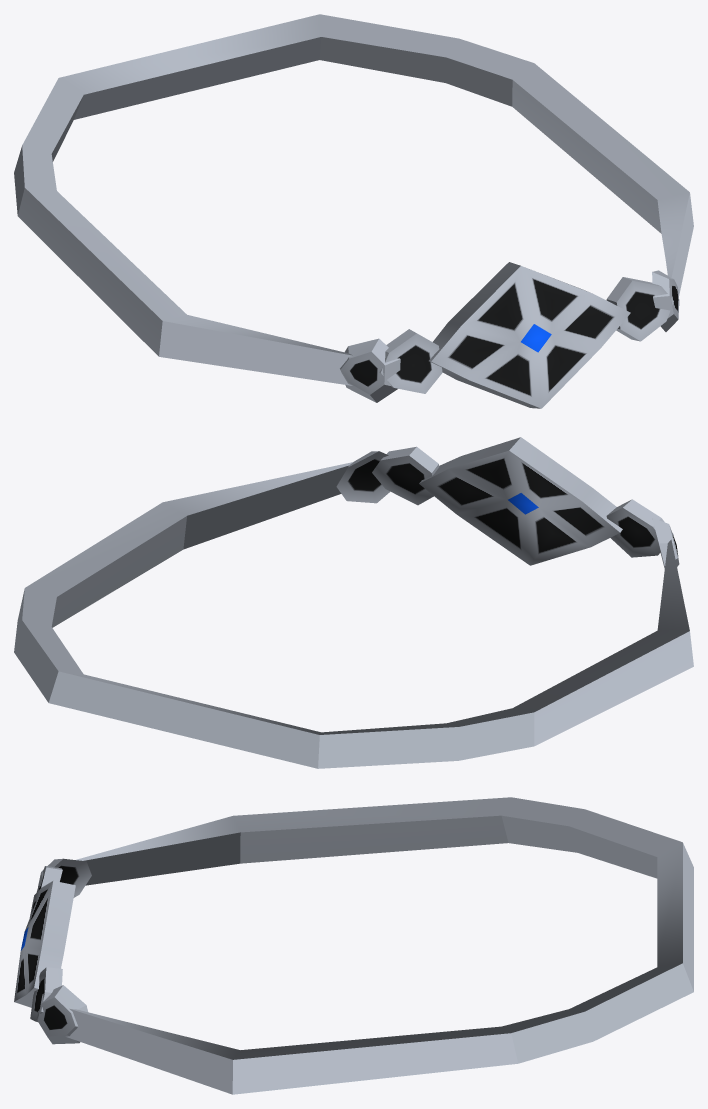
The model's file is pk-polysplit-heroes-circlet-f.glb.
3 renders of one model, top to bottom at view 1: azimuth 30°, elevation 25°; view 2: azimuth 150°, elevation 25°; view 3: azimuth 270°, elevation 25°, orthographic. The views are drawn at different scales.
Parts seen in each view (by area): view 1: Circlet_F; view 2: Circlet_F; view 3: Circlet_F.
Part boxes in pixels (x1,y1,x2,y2): Circlet_F: [14, 14, 693, 408]; Circlet_F: [14, 437, 693, 768]; Circlet_F: [14, 797, 693, 1094].
Bounding box in the file's own units: 0.2203 × 0.0533 × 0.2556.
Materials: 1 (1 with a texture image).
